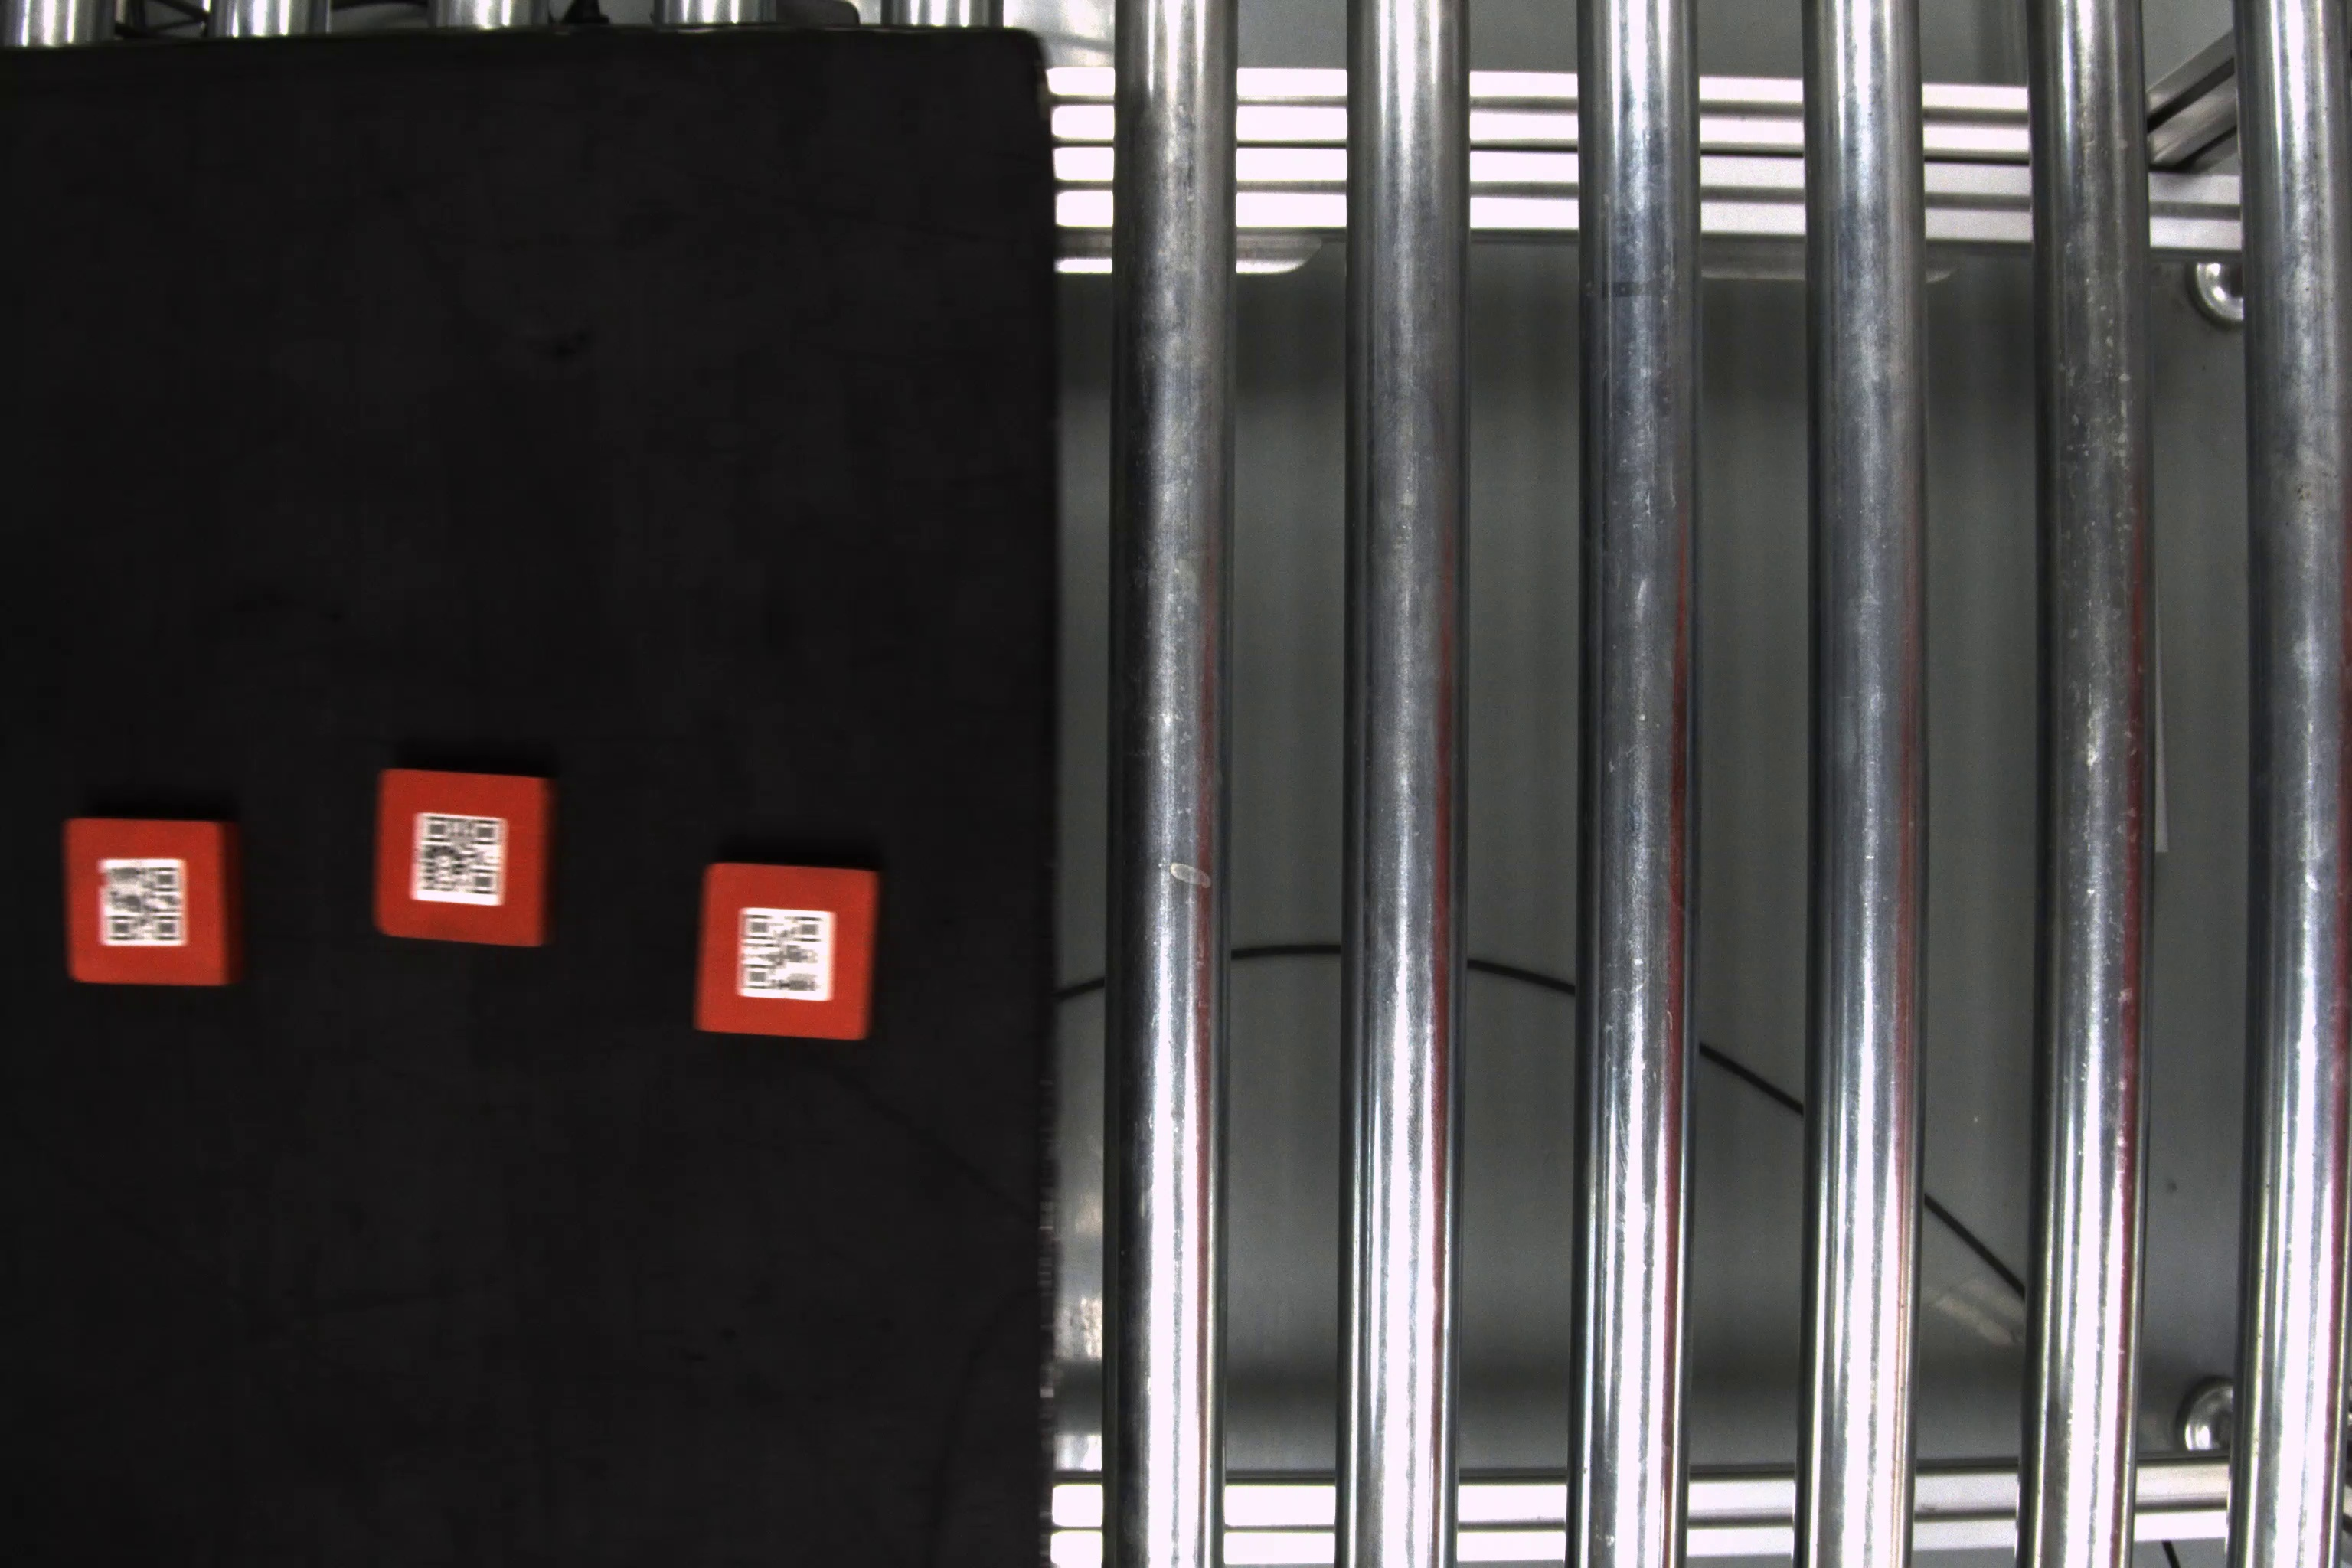wood: (696, 856, 891, 1046), (56, 815, 254, 994), (373, 766, 556, 954)
